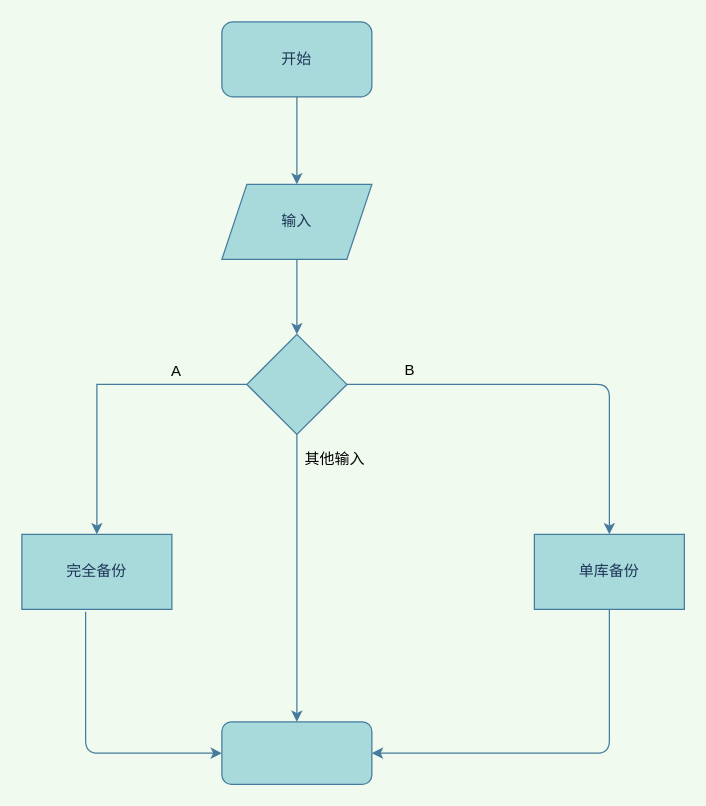
The diagram is 706 pixels wide and 806 high, and some of its shapes have lost their labels. Each missing label, with the box of its shape:
A/B: (246, 333, 347, 434)
结束: (221, 721, 372, 784)
